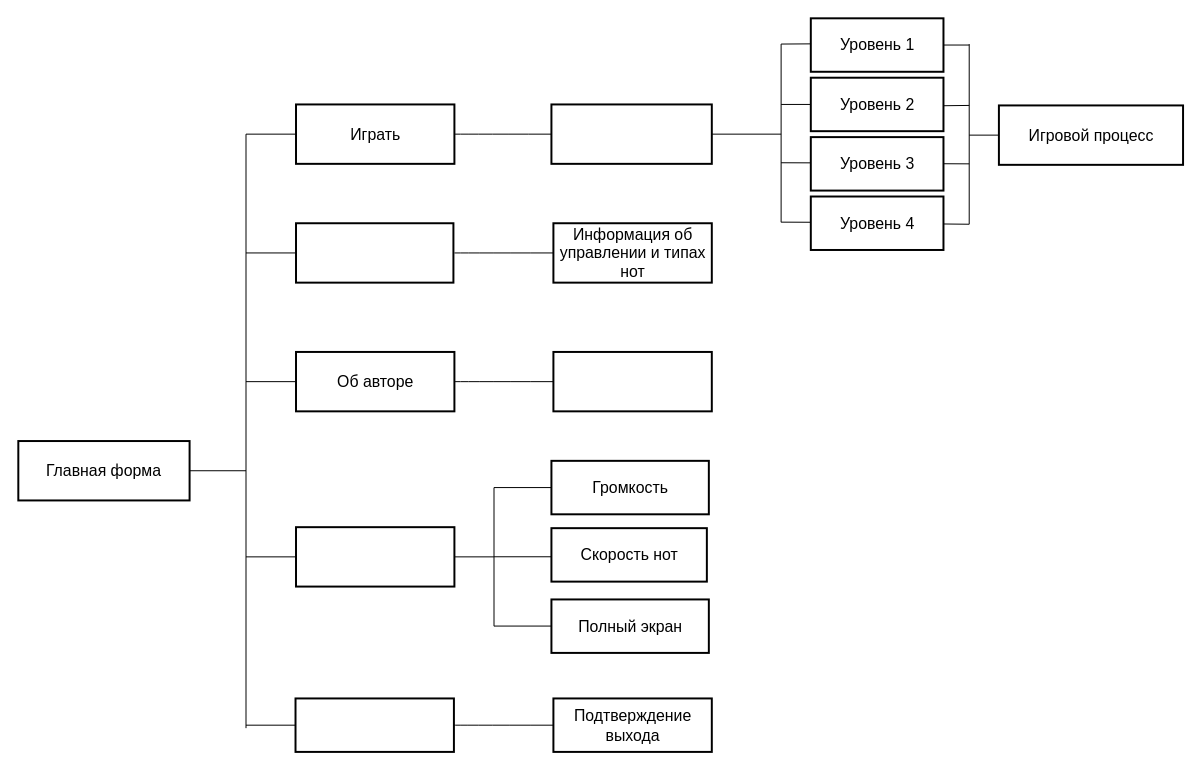
This 1201x769 diagram has some shape labels left out. The shapes that lost their labels are listed below. From the top down, each one's box as (x1, y1, x2, y2) in pixels, then its label:
(550, 103, 712, 164): Выбор уровня
(295, 222, 454, 283): Управление
(552, 350, 712, 412): Информация о создателе проекта
(295, 526, 455, 587): Настройки
(294, 697, 454, 752): Выход
